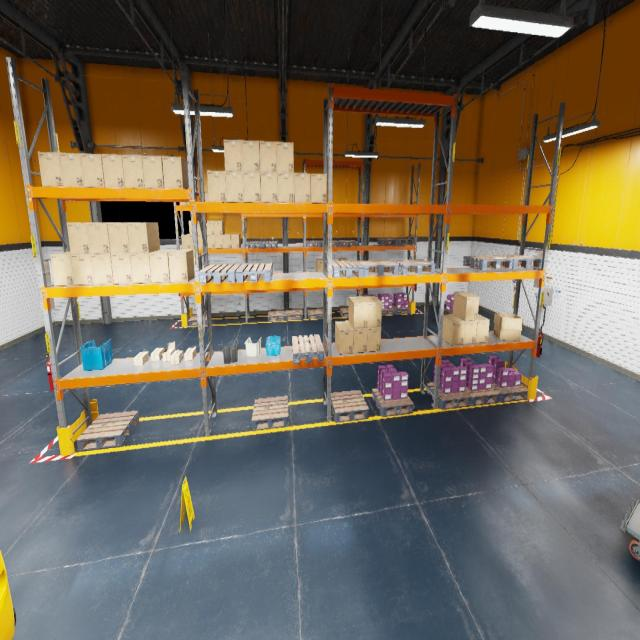box: (127, 222, 160, 253), (149, 250, 177, 282), (59, 152, 84, 187), (162, 156, 189, 188), (80, 153, 105, 187), (38, 152, 63, 186), (493, 313, 523, 341), (50, 251, 74, 286), (168, 250, 194, 282), (101, 154, 125, 187), (453, 292, 479, 321), (90, 253, 114, 284), (87, 222, 110, 254), (67, 222, 90, 254), (142, 155, 164, 188), (122, 155, 144, 188), (453, 314, 477, 344), (442, 314, 465, 345), (71, 254, 94, 285), (107, 222, 130, 253), (110, 254, 132, 284), (348, 296, 368, 328), (130, 253, 151, 283), (362, 296, 382, 327), (207, 170, 226, 202), (335, 321, 353, 354), (225, 171, 244, 202), (242, 140, 260, 172), (224, 140, 242, 172), (259, 141, 277, 172), (276, 142, 294, 172), (242, 172, 260, 202), (260, 173, 278, 202), (350, 323, 367, 353), (277, 172, 294, 202), (310, 173, 326, 203), (294, 172, 310, 202), (476, 314, 489, 343), (367, 327, 381, 352), (162, 342, 175, 362), (134, 352, 148, 366), (170, 350, 183, 364), (151, 347, 164, 361), (184, 348, 196, 360), (213, 221, 224, 234), (231, 234, 241, 248), (188, 221, 198, 235), (181, 234, 190, 249), (338, 258, 348, 271), (214, 235, 223, 248), (223, 234, 231, 248), (206, 221, 214, 235), (207, 236, 215, 248), (190, 236, 198, 248), (316, 259, 323, 271), (197, 221, 202, 235), (198, 236, 203, 248), (204, 192, 208, 202), (179, 202, 188, 206), (188, 202, 189, 206), (327, 258, 327, 272)
forklift: (0, 550, 16, 640)
pallets: (76, 411, 139, 451), (426, 382, 471, 410), (252, 396, 288, 430), (331, 390, 369, 422), (372, 388, 413, 417), (292, 334, 324, 364), (199, 264, 241, 284), (236, 262, 272, 282), (492, 382, 528, 402), (463, 256, 513, 270), (494, 255, 542, 269), (356, 260, 398, 276), (465, 387, 500, 406), (392, 260, 436, 275), (332, 260, 364, 278), (188, 314, 212, 325), (285, 309, 303, 320), (268, 311, 285, 321), (392, 305, 410, 314), (307, 309, 323, 319), (338, 240, 358, 247), (320, 240, 339, 247), (377, 239, 398, 245), (245, 241, 262, 248), (395, 238, 414, 244), (262, 241, 277, 248), (306, 241, 321, 247), (382, 308, 395, 314), (340, 308, 348, 317), (443, 309, 452, 314)
